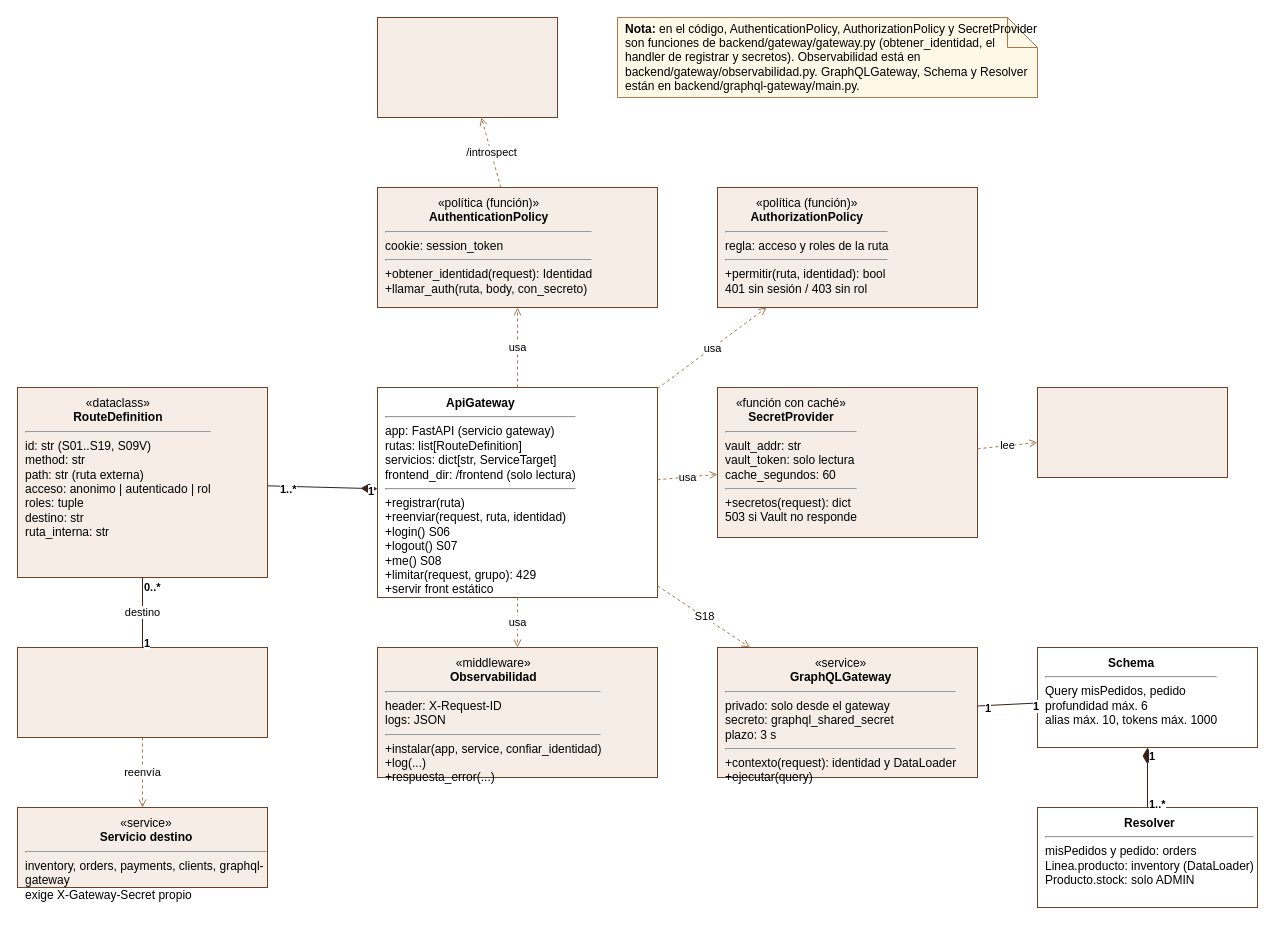
This 1275x925 diagram has some shape labels left out. Each missing label, with the box of its shape:
«dataclass» ServiceTarget url: str secreto: str (clave en secret/gateway): (16, 646, 268, 738)
«service» auth /login /introspect /logout: (376, 16, 558, 118)
«sistema externo» Vault secret/gateway política gateway: read: (1036, 386, 1228, 478)
